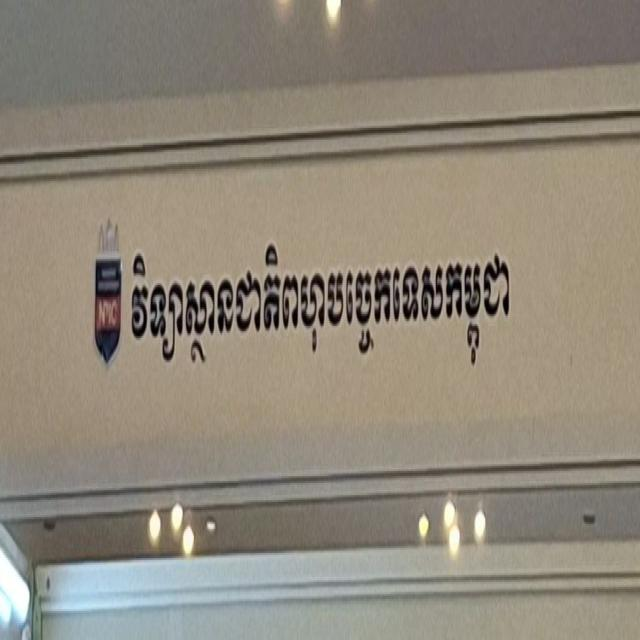Yolov11_80vkh: (120, 176, 562, 485)
